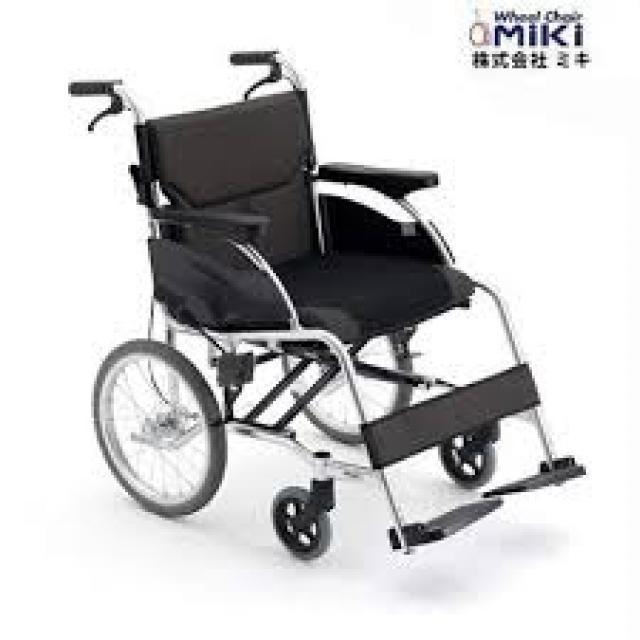wheelchair: (51, 37, 603, 555)
